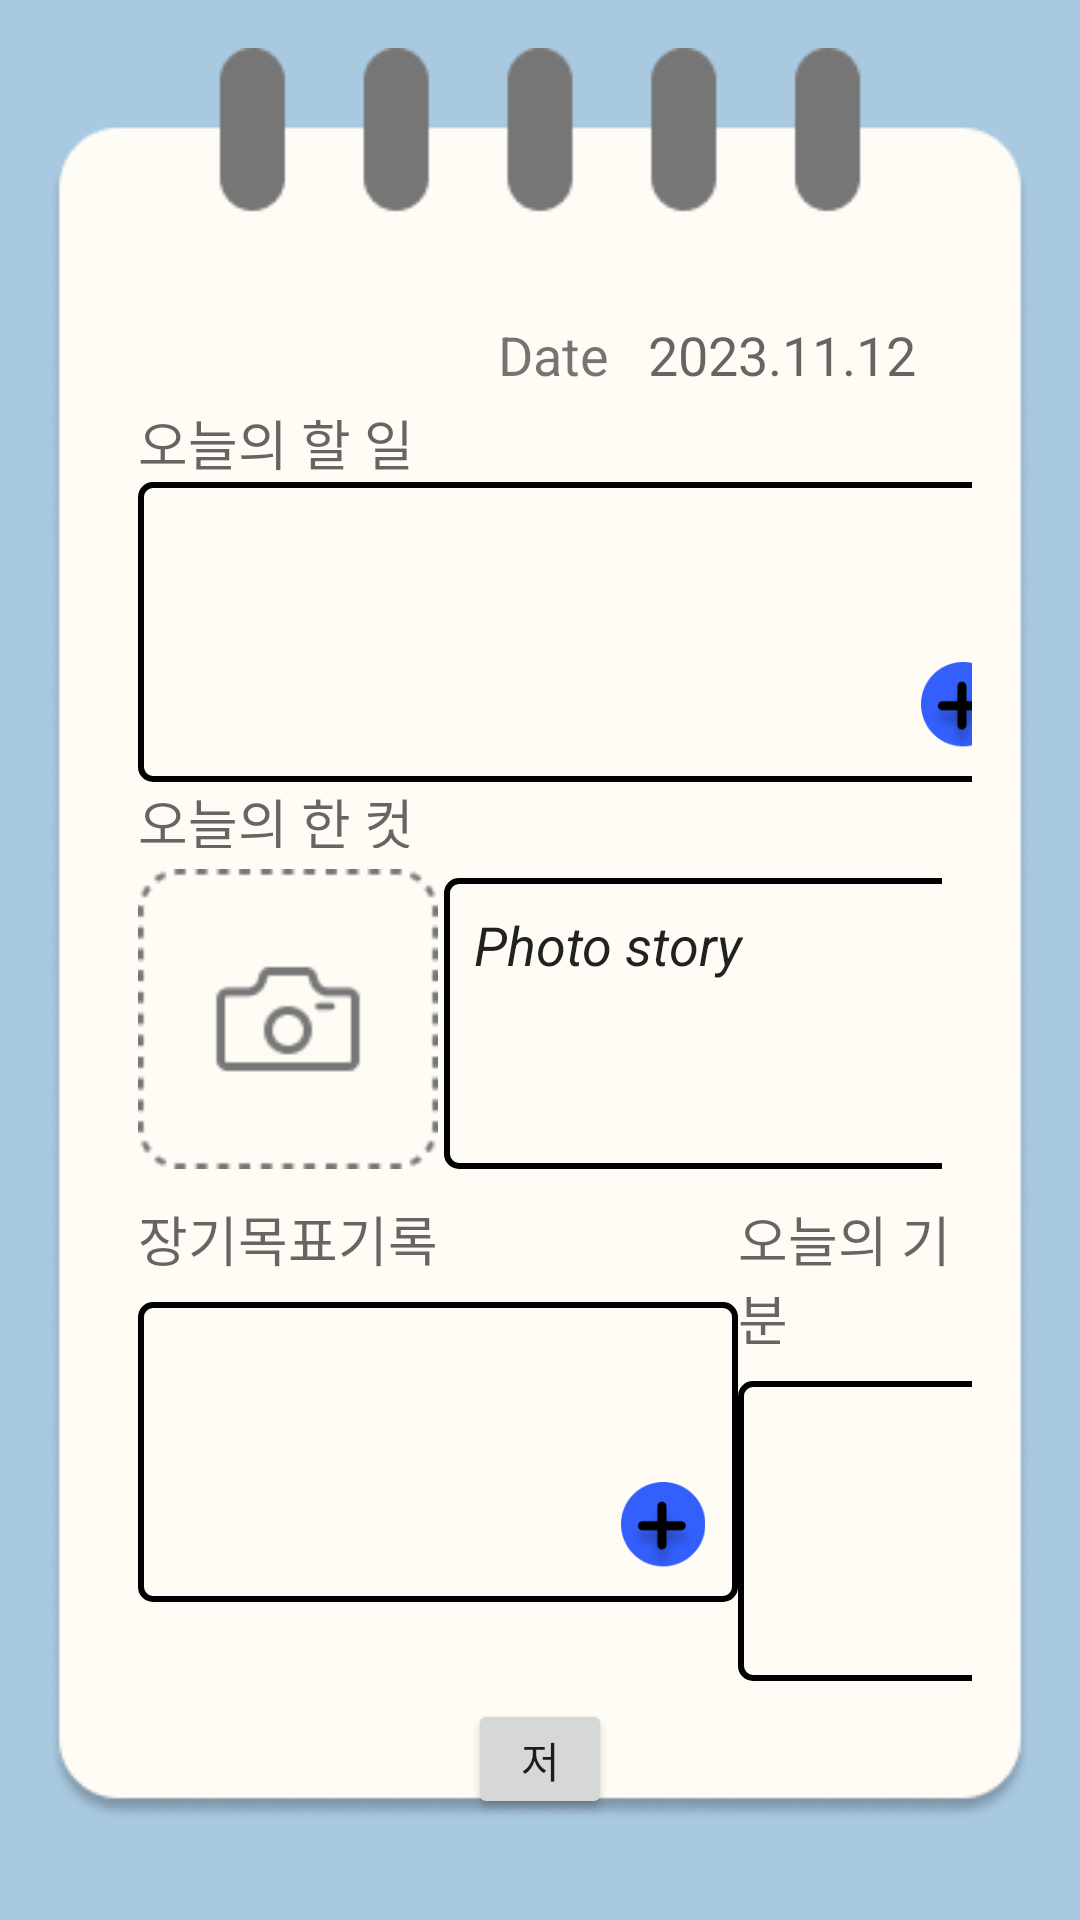

Screen size 1080*1920. Icon name, then its box in pixels as (x1, y1, x2, y2):
camera: (138, 869, 438, 1169)
